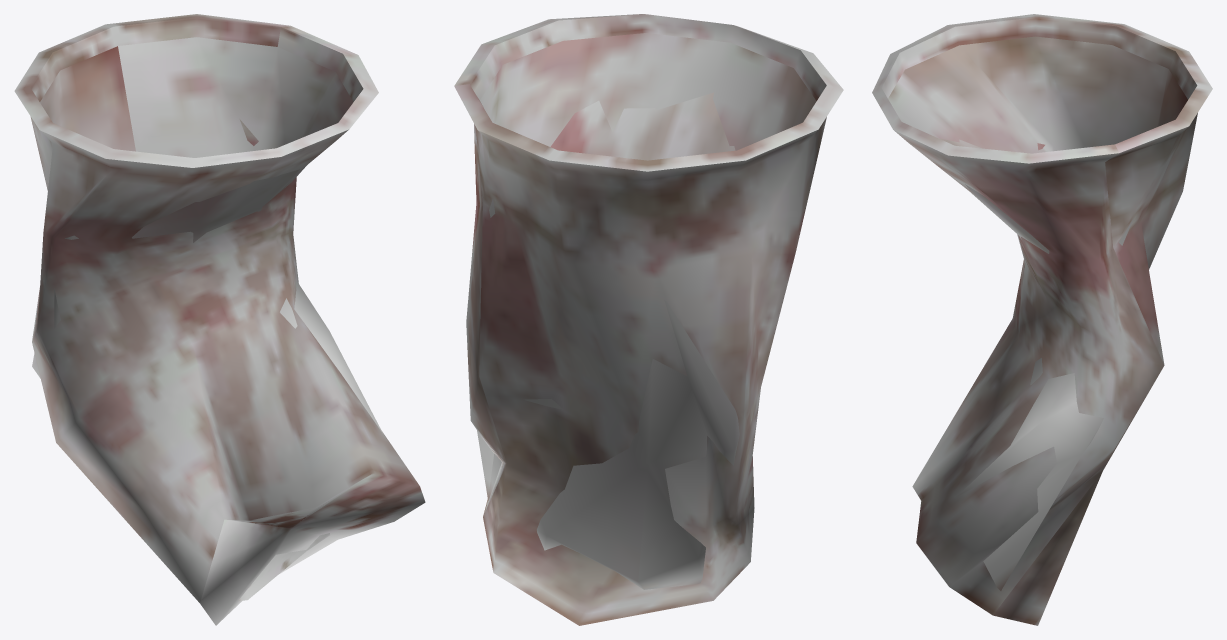
The model's file is SM_TrashScrapCup_01_D.fbx.
3 views of the same model, side by side, from view 1: azimuth 30°, elevation 25°; view 2: azimuth 150°, elevation 25°; view 3: azimuth 270°, elevation 25° (orthographic). The views are drawn at different scales.
Visible parts, largest first — view 1: SM_TrashScrapCup_01_D; view 2: SM_TrashScrapCup_01_D; view 3: SM_TrashScrapCup_01_D.
Part boxes in pixels (box(x1,y1,x2,y2)): SM_TrashScrapCup_01_D: box(14, 14, 425, 625); SM_TrashScrapCup_01_D: box(454, 14, 843, 625); SM_TrashScrapCup_01_D: box(872, 14, 1212, 625).
Size of the model in its own units: 7.03 by 6.25 by 10.14.
Materials: 1 (1 with a texture image).
